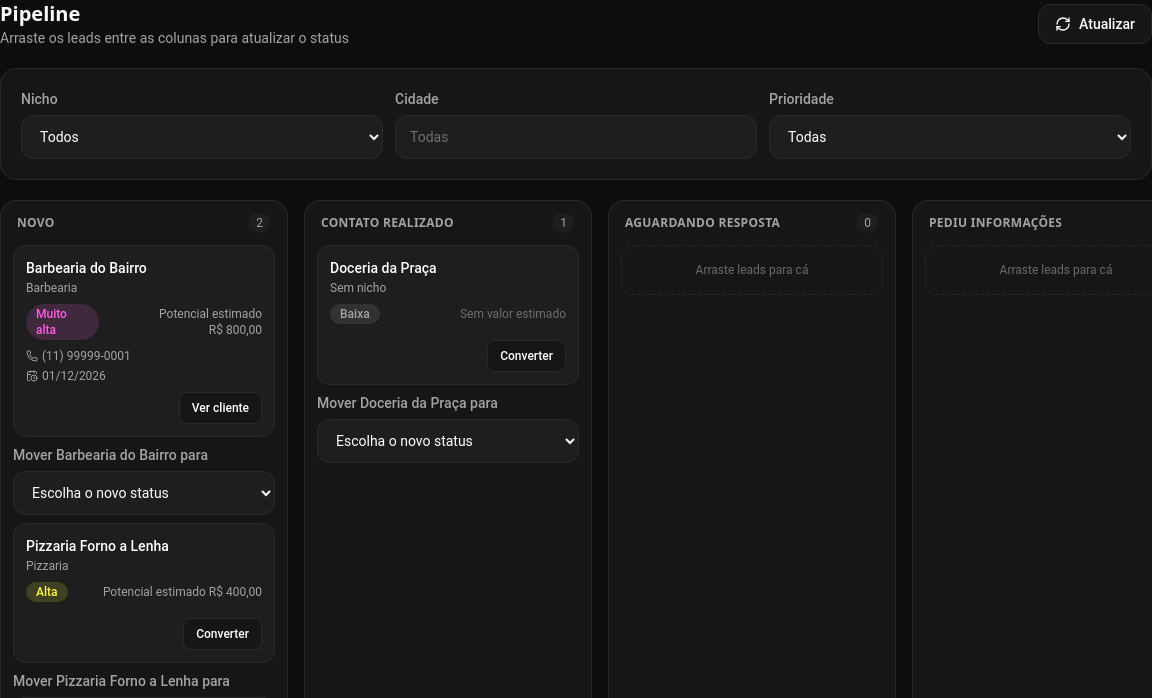
Test: PipelinePage — conversão › navega em Ver cliente sem gravar mudança de status
Check: the element "Barbearia do Bairro" is shown, box [13,245,275,437]
Click the link "Ver cliente" at [220, 408], box [179,392,262,424]
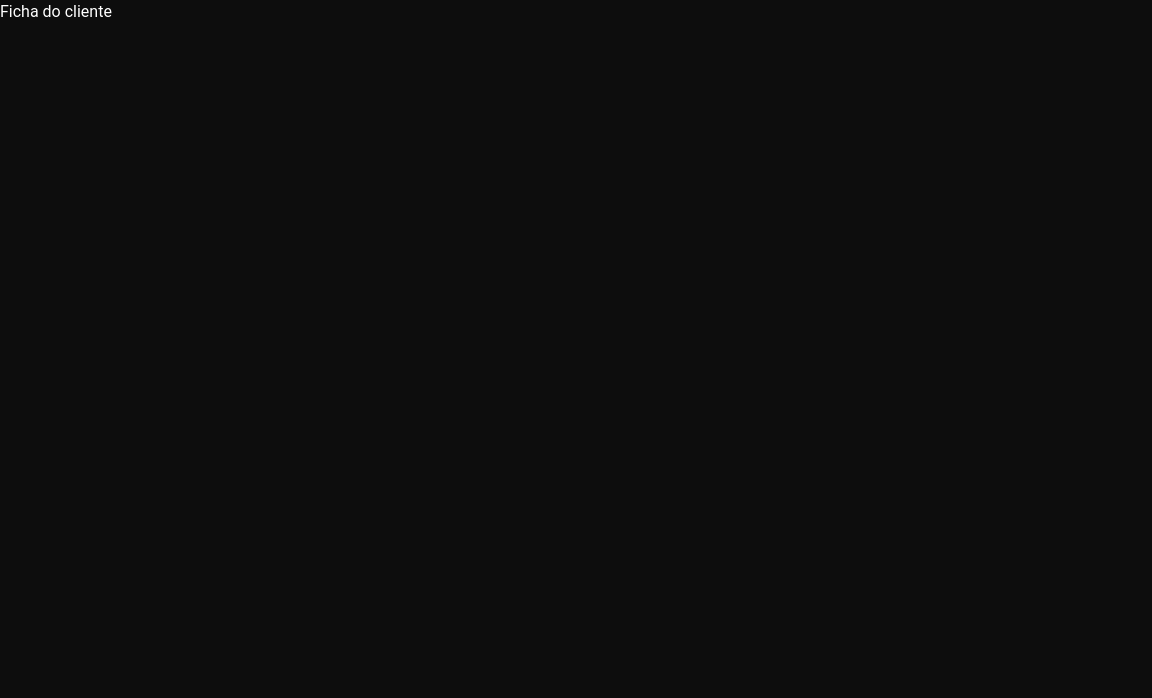
Check: the text "Ficha do cliente" is shown, box [0,2,112,21]
